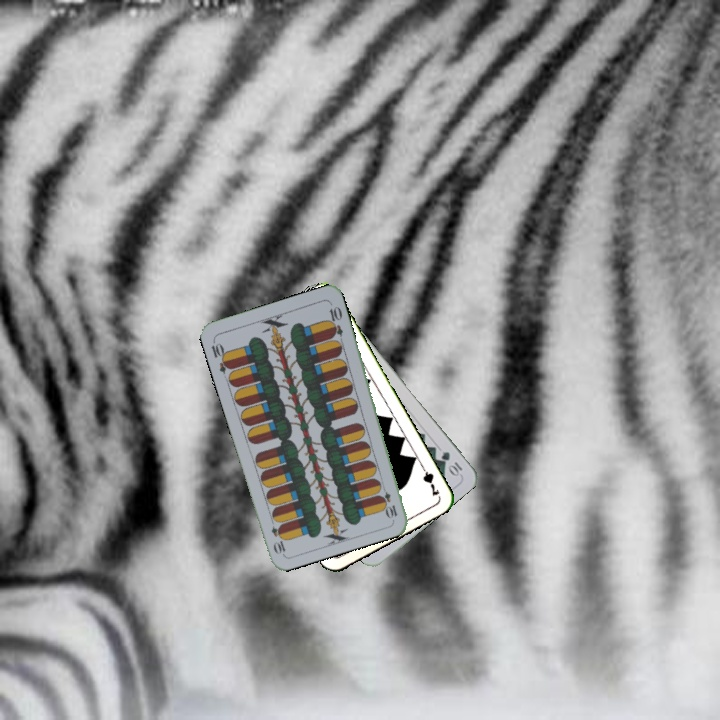E10: (207, 336, 234, 376), (377, 481, 400, 521)
G10: (437, 447, 465, 479)
G7: (416, 460, 442, 499)
